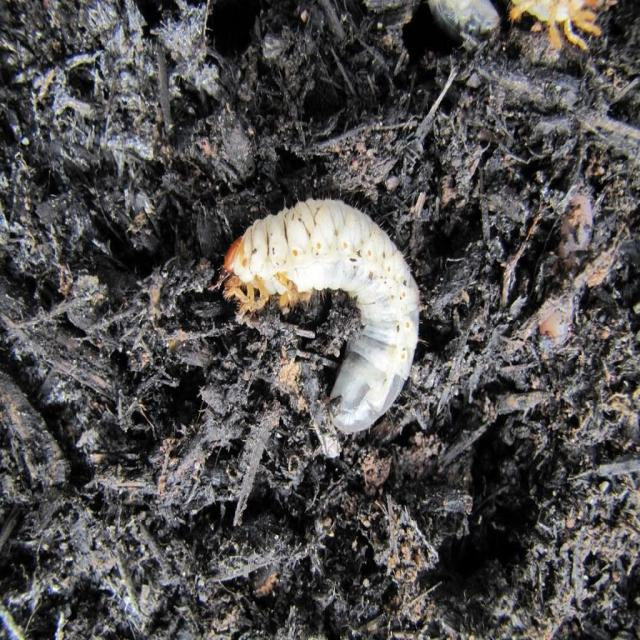grub: (214, 197, 423, 441)
